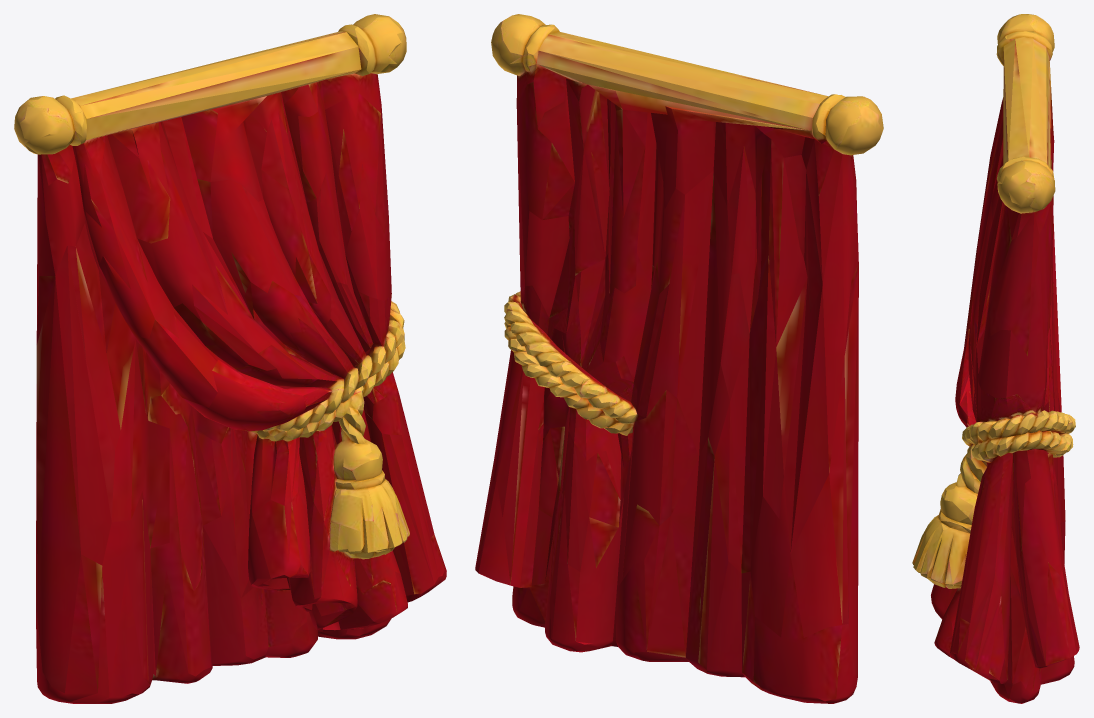
File: ds-gardin.glb
3 views of the same model, side by side, from view 1: azimuth 30°, elevation 25°; view 2: azimuth 150°, elevation 25°; view 3: azimuth 270°, elevation 25° (orthographic). The views are drawn at different scales.
Bounding box in the file's own units: 1.32 × 1.9 × 0.5331.
1 material, 1 textured.
